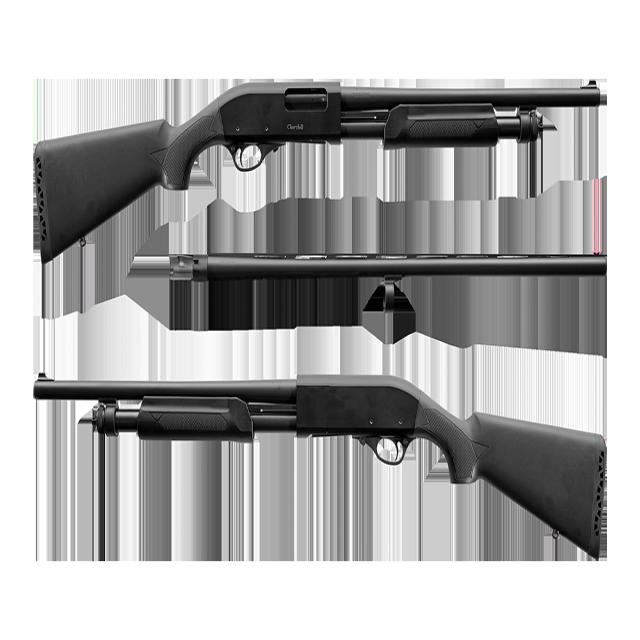ShotGun: (33, 80, 608, 265), (33, 376, 607, 560)
